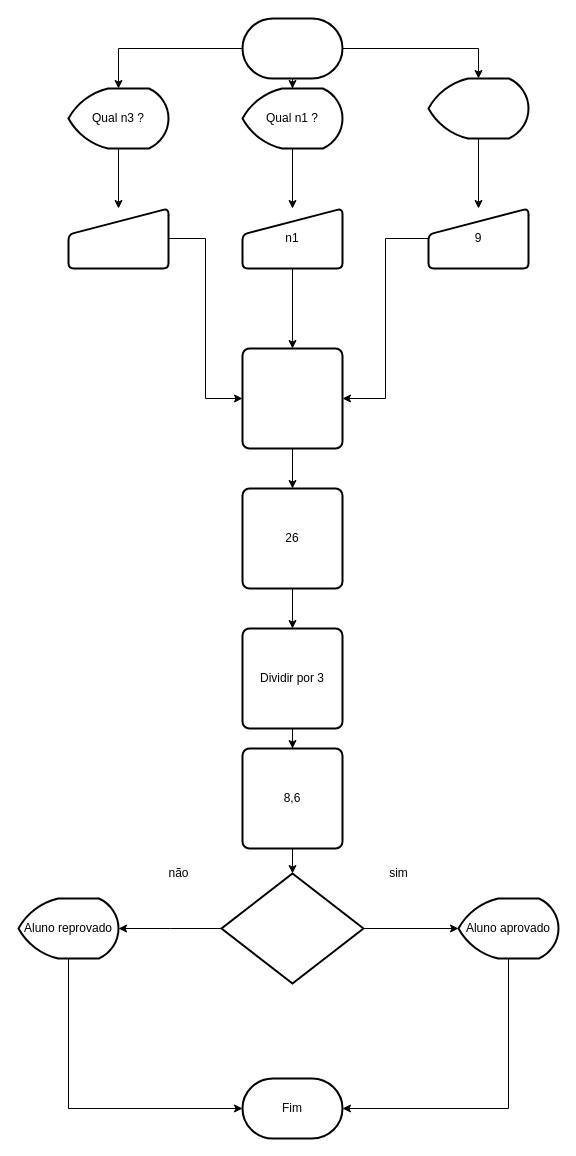
Some shapes in this 576 by 1156 pixel diagram are drawn without their labels. The centre of each missing label's shape, as x and y in pixels:
A média é maior que 5 ?: the point at 292,928
Início: the point at 292,48
n3: the point at 118,238
Qual n2 ?: the point at 478,108
Somar todas as notas: the point at 292,398
